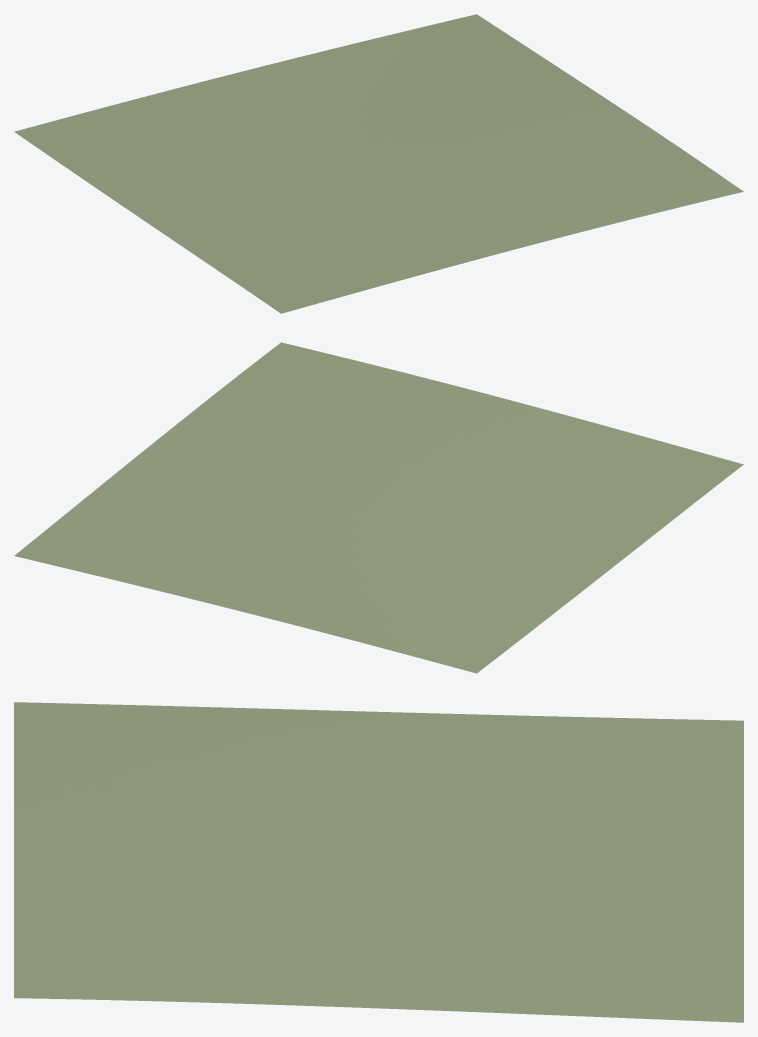
Rendered from expanse-28-1.glb.
3 views of the same model, one above another, from view 1: azimuth 30°, elevation 25°; view 2: azimuth 150°, elevation 25°; view 3: azimuth 270°, elevation 25° (orthographic). The views are drawn at different scales.
Parts seen in each view (by area): view 1: expanse-28-1; view 2: expanse-28-1; view 3: expanse-28-1.
Part boxes in pixels (box(x1,y1,x2,y2)): expanse-28-1: box(14, 14, 743, 313); expanse-28-1: box(14, 342, 743, 673); expanse-28-1: box(14, 702, 743, 1022).
Bounding box in the file's own units: 256 × 12.04 × 256.
